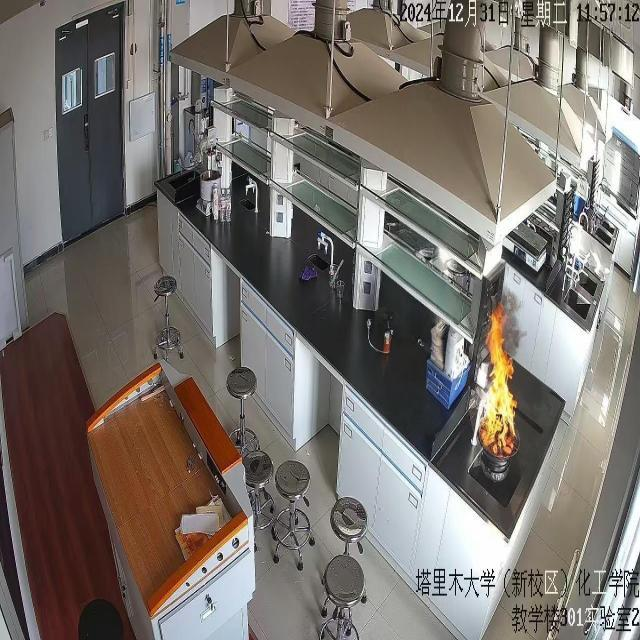smoke: (476, 304, 520, 459)
